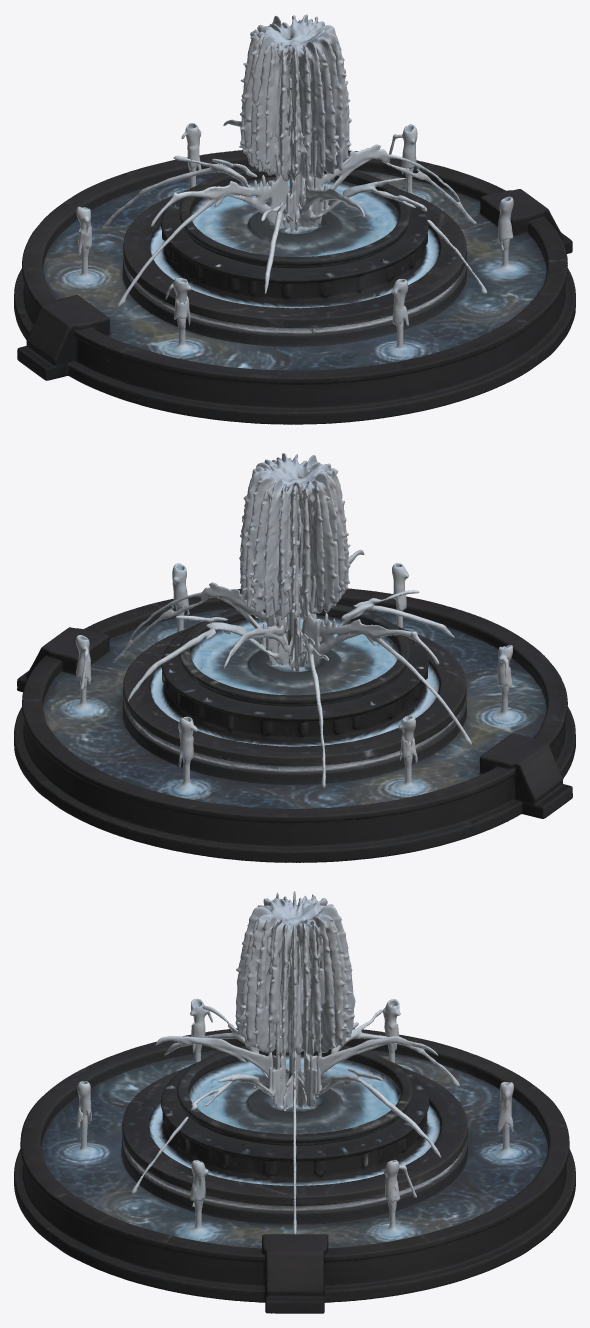
Rendered from fountain.glb.
3 views of the same model, one above another, from view 1: azimuth 30°, elevation 25°; view 2: azimuth 150°, elevation 25°; view 3: azimuth 270°, elevation 25° (orthographic).
Parts seen in each view (by area): view 1: tripo_node_f8802ef5-8d04-40c3-b886-dfb629a992a7; view 2: tripo_node_f8802ef5-8d04-40c3-b886-dfb629a992a7; view 3: tripo_node_f8802ef5-8d04-40c3-b886-dfb629a992a7.
Part boxes in pixels (x1,y1,x2,y2): tripo_node_f8802ef5-8d04-40c3-b886-dfb629a992a7: [14, 14, 575, 424]; tripo_node_f8802ef5-8d04-40c3-b886-dfb629a992a7: [14, 453, 575, 862]; tripo_node_f8802ef5-8d04-40c3-b886-dfb629a992a7: [14, 891, 575, 1313].
Bounding box in the file's own units: 1 × 0.6854 × 0.9176.
Materials: 1 (1 with a texture image).
